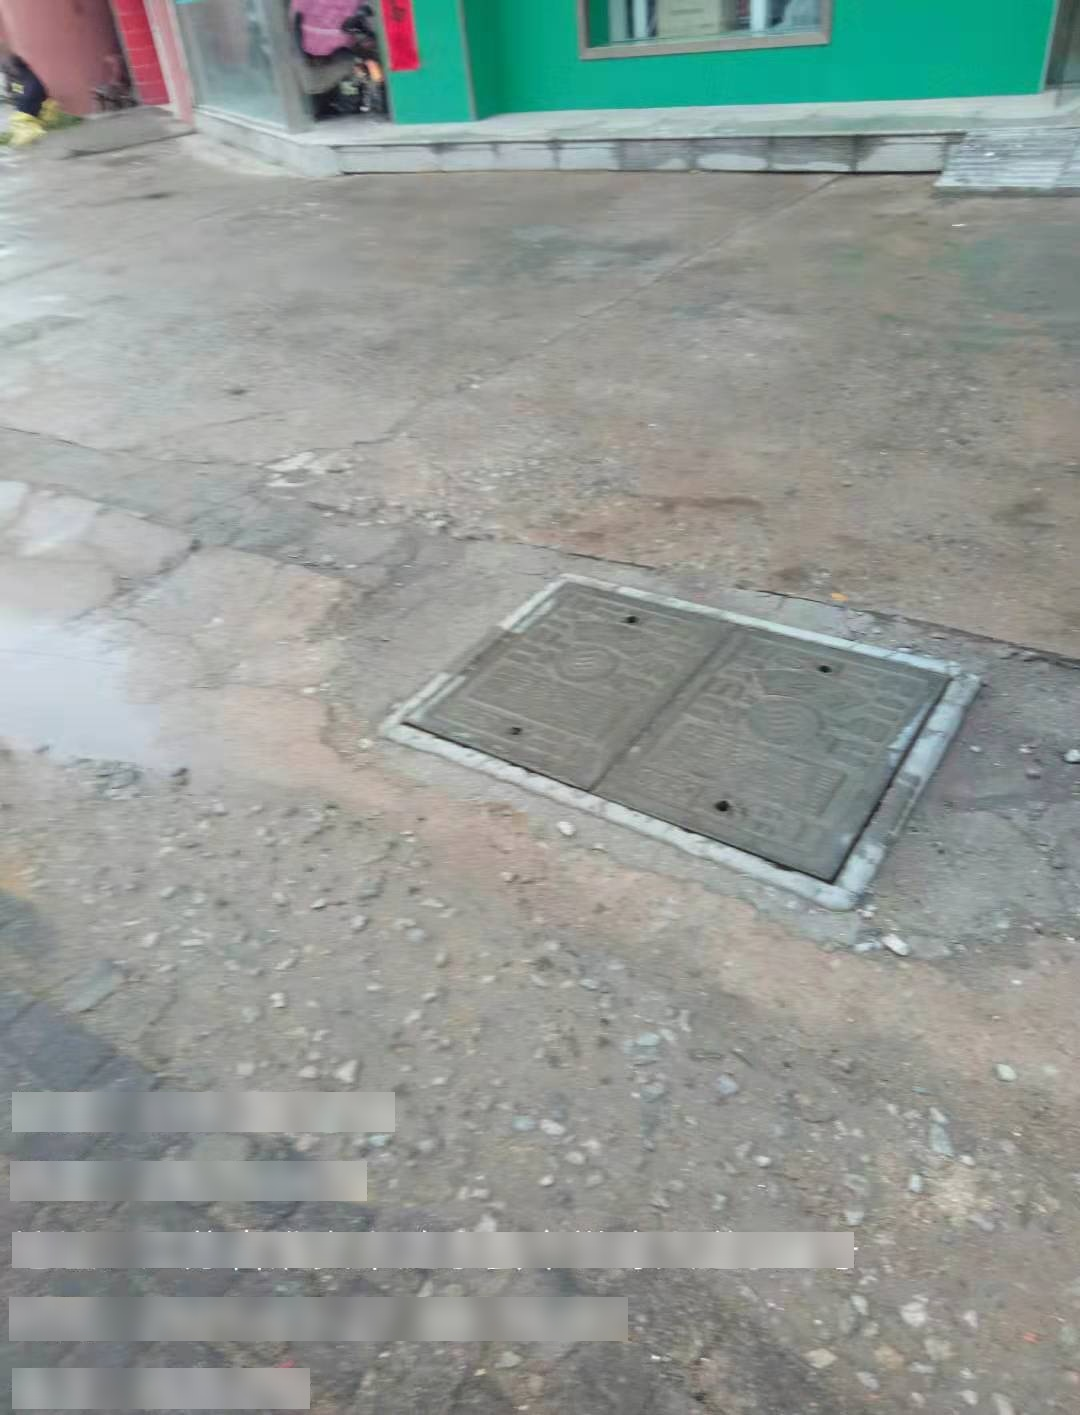good: (376, 568, 976, 913)
